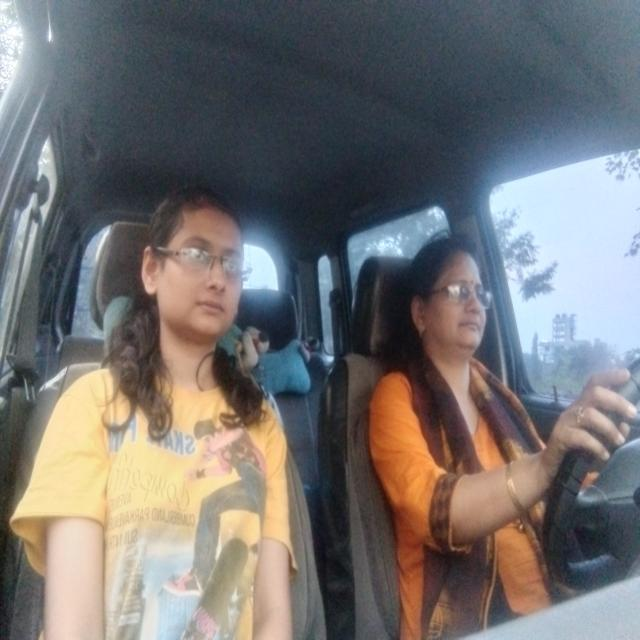person: (137, 184, 253, 357), (401, 225, 496, 382)
